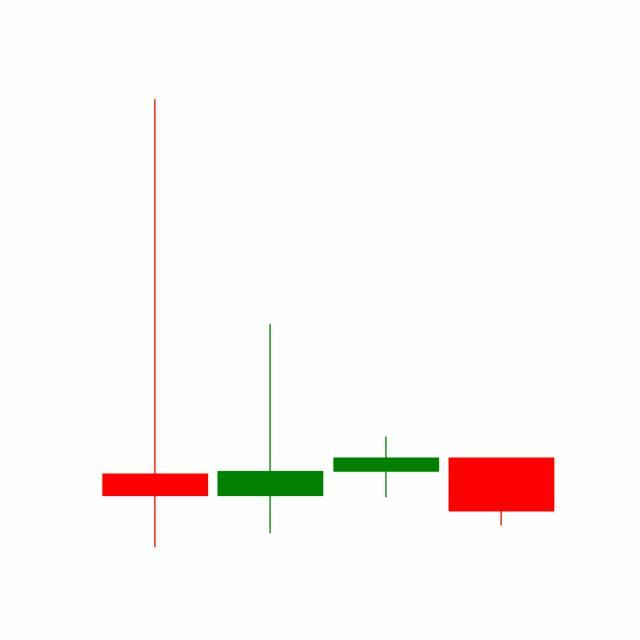Spinning Top: (329, 435, 445, 499)
